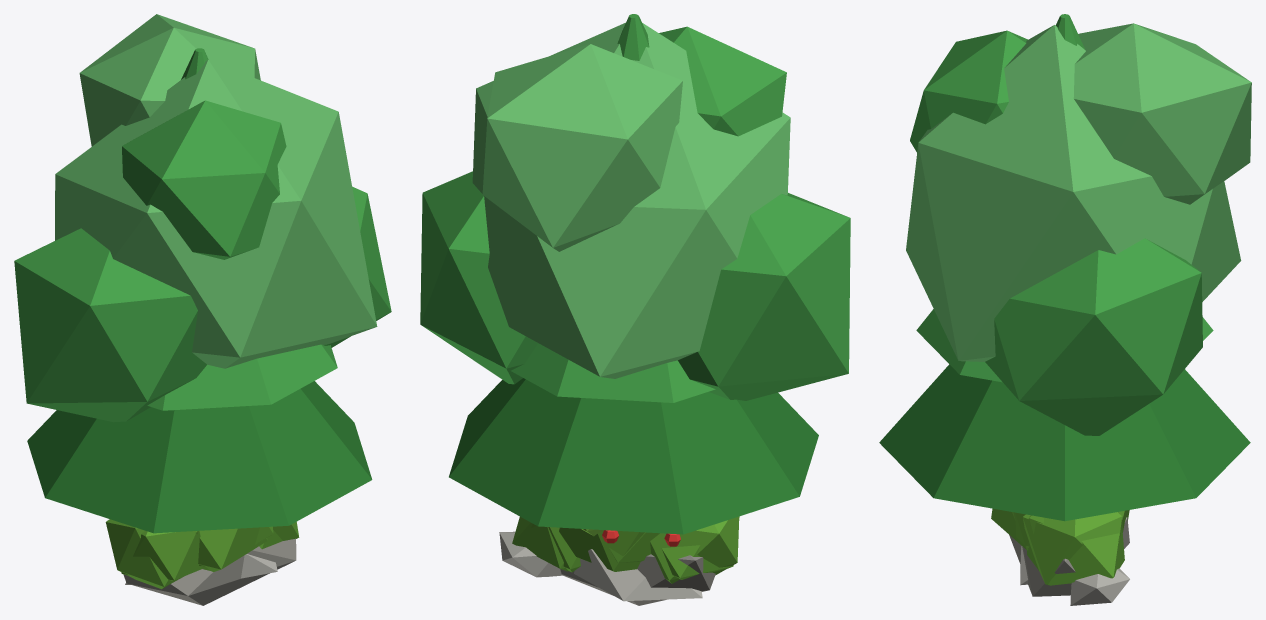
The model's file is Susler.fbx.
3 views of the same model, side by side, from view 1: azimuth 30°, elevation 25°; view 2: azimuth 150°, elevation 25°; view 3: azimuth 270°, elevation 25° (orthographic). The views are drawn at different scales.
Parts seen in each view (by area): view 1: Agac_Yuvarlak, Agac_Cam, Cali_0, Kaya_1, Cali_1, Kaya_0; view 2: Agac_Yuvarlak, Agac_Cam, Cali_1, Kaya_1, Cali_0, Kaya_0; view 3: Agac_Yuvarlak, Agac_Cam, Cali_1, Cali_0, Kaya_1.
Part boxes in pixels (x1=…): Agac_Yuvarlak: x1=14, y1=14, x2=391, y2=422; Agac_Cam: x1=27, y1=48, x2=372, y2=533; Cali_0: x1=121, y1=527, x2=282, y2=580; Kaya_1: x1=123, y1=538, x2=296, y2=605; Cali_1: x1=105, y1=519, x2=299, y2=589; Kaya_0: x1=125, y1=554, x2=277, y2=584; Agac_Yuvarlak: x1=420, y1=22, x2=850, y2=400; Agac_Cam: x1=449, y1=14, x2=818, y2=534; Cali_1: x1=531, y1=516, x2=739, y2=583; Kaya_1: x1=499, y1=531, x2=715, y2=605; Cali_0: x1=512, y1=516, x2=739, y2=579; Kaya_0: x1=574, y1=549, x2=702, y2=601; Agac_Yuvarlak: x1=906, y1=23, x2=1251, y2=435; Agac_Cam: x1=879, y1=14, x2=1250, y2=521; Cali_1: x1=1013, y1=510, x2=1129, y2=585; Cali_0: x1=991, y1=508, x2=1124, y2=585; Kaya_1: x1=1009, y1=535, x2=1129, y2=605.
Bounding box in the file's own units: 179 × 256 × 150.
